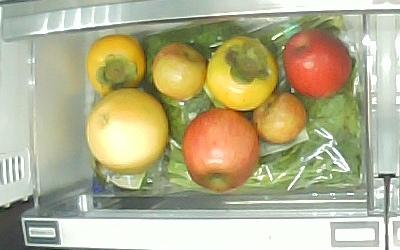apple: (183, 108, 261, 192), (283, 29, 353, 99)
grapefruit: (85, 88, 170, 174)
persimmon: (207, 35, 279, 110), (87, 35, 147, 99)
prune: (152, 43, 207, 101), (254, 92, 307, 143)
